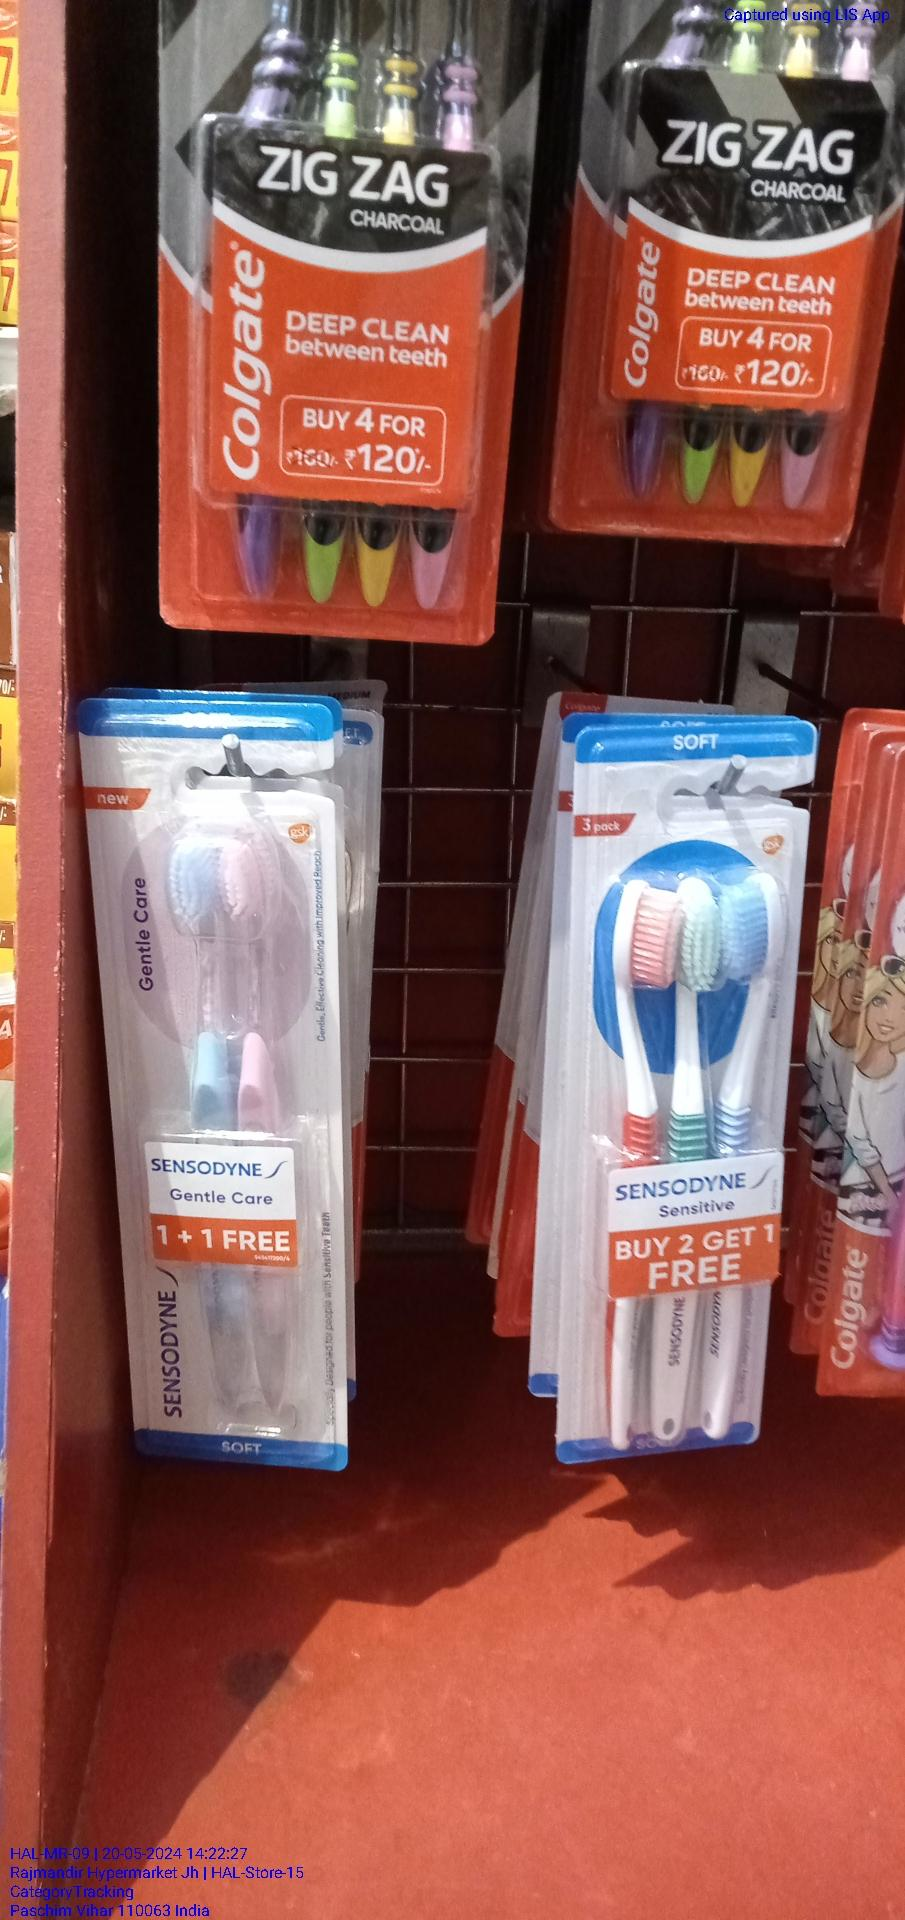15: (577, 720, 789, 1461)
7: (84, 698, 343, 1463)
liquid soap: (159, 0, 533, 644), (582, 0, 884, 525)
